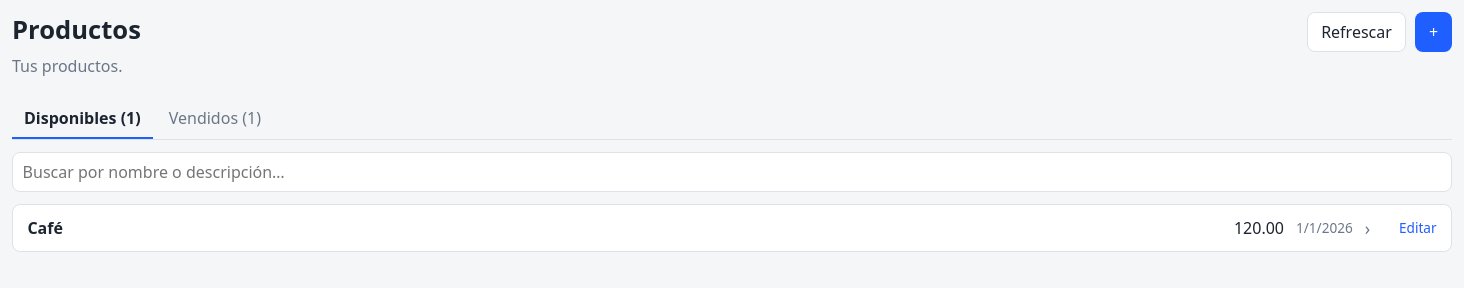
Test: Productos › filtra por búsqueda y limpia el filtro
The image size is (1464, 288).
expect the button "Café 120.00 1/1/2026 ›" is shown: met, box [13,205,1385,251]
Type "café" into the search field named "Buscar productos" at (732, 172), box [12,152,1452,192]
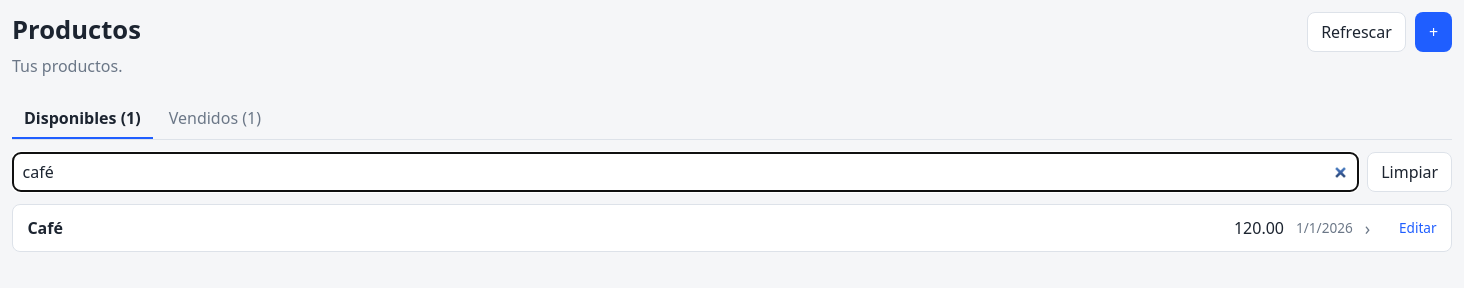
expect the button "Café 120.00 1/1/2026 ›" is shown: met, box [13,205,1385,251]
Type "zzz" into the search field named "Buscar productos" at (686, 172), box [12,152,1359,192]
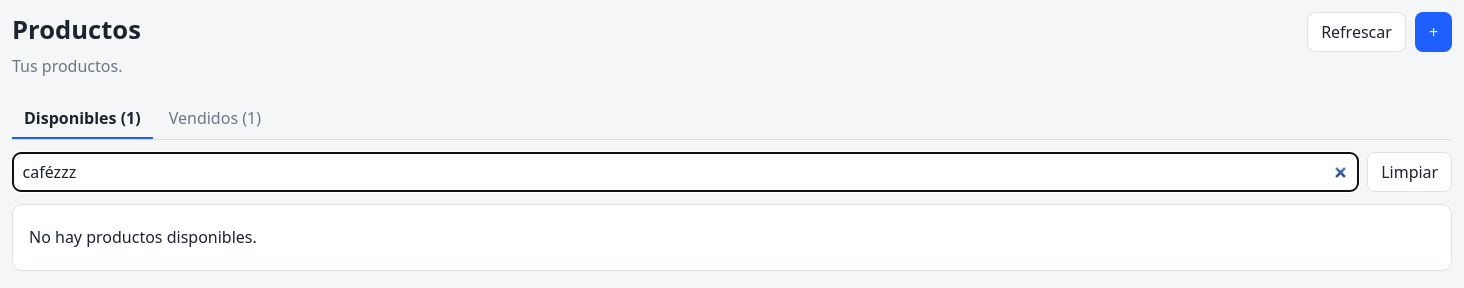
expect the text "No hay productos disponibles." is shown: met, box [29,226,257,248]
Click the button "Limpiar" at (1410, 172), box [1367,152,1452,192]
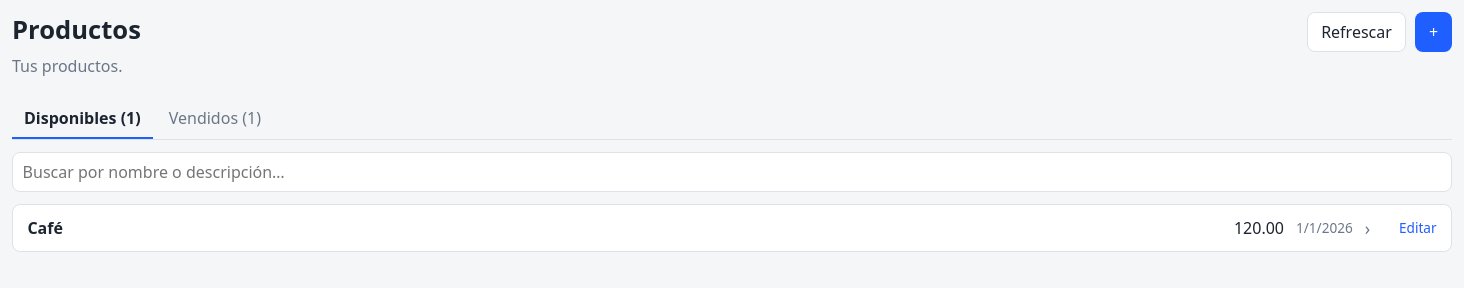
expect the button "Café 120.00 1/1/2026 ›" is shown: met, box [13,205,1385,251]
